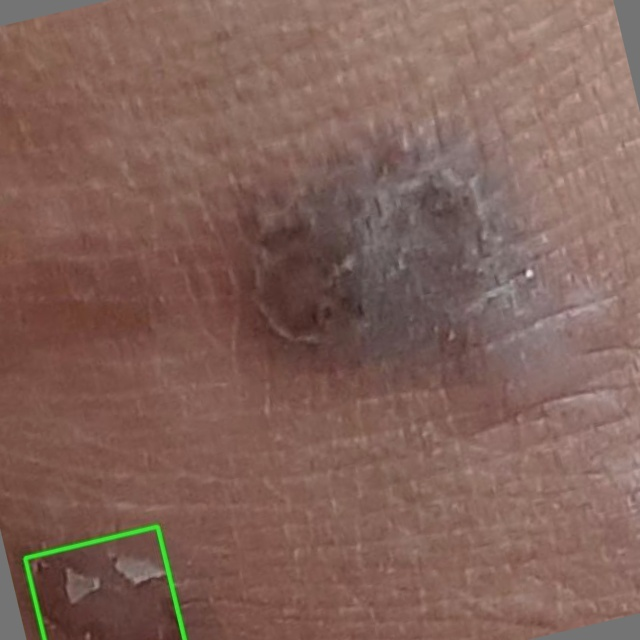Contact Dermatitis: (25, 526, 184, 639)
